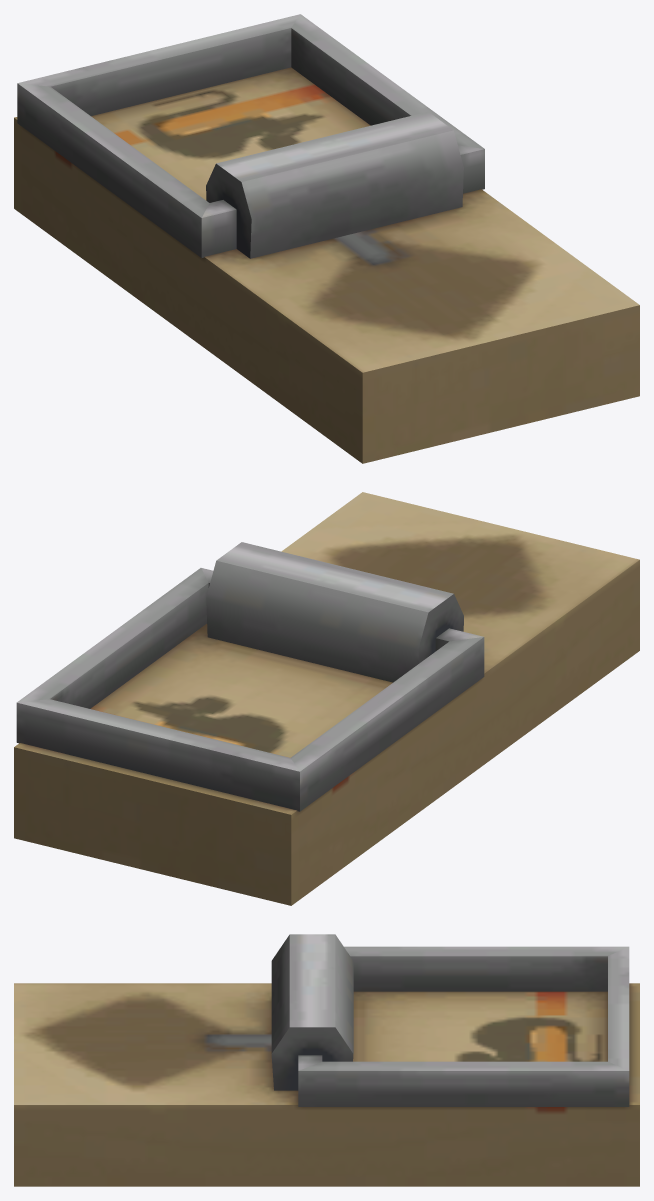
File: trampaQueso.fbx
The picture shows the model from 3 angles, top to bottom: view 1: azimuth 30°, elevation 25°; view 2: azimuth 150°, elevation 25°; view 3: azimuth 270°, elevation 25°; orthographic projection. The views are drawn at different scales.
Parts seen in each view (by area): view 1: s4studio_mesh_0; view 2: s4studio_mesh_0; view 3: s4studio_mesh_0.
Part boxes in pixels (x1=…): s4studio_mesh_0: x1=14, y1=14, x2=639, y2=463; s4studio_mesh_0: x1=14, y1=492, x2=639, y2=905; s4studio_mesh_0: x1=14, y1=934, x2=639, y2=1186.
Bounding box in the file's own units: 7.95 × 4.33 × 16.94.
Materials: 1 (1 with a texture image).
